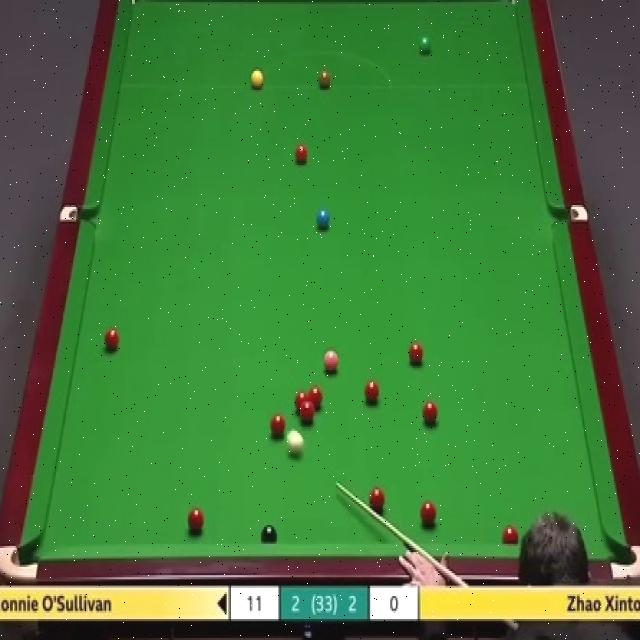black-ball: (260, 524, 280, 546)
blue-ball: (315, 209, 332, 230)
brown-ball: (318, 66, 331, 88)
green-ball: (416, 34, 431, 56)
pink-ball: (323, 350, 340, 376)
red-ball: (269, 411, 287, 442), (187, 506, 204, 535), (361, 378, 379, 404), (368, 488, 386, 514), (408, 340, 425, 367), (419, 502, 437, 526), (422, 401, 437, 429), (294, 391, 309, 417), (104, 328, 120, 352), (293, 142, 309, 166), (309, 386, 323, 412), (502, 524, 519, 544), (300, 404, 316, 425)
white-ball: (286, 428, 304, 454)
yellow-ball: (249, 70, 265, 89)
